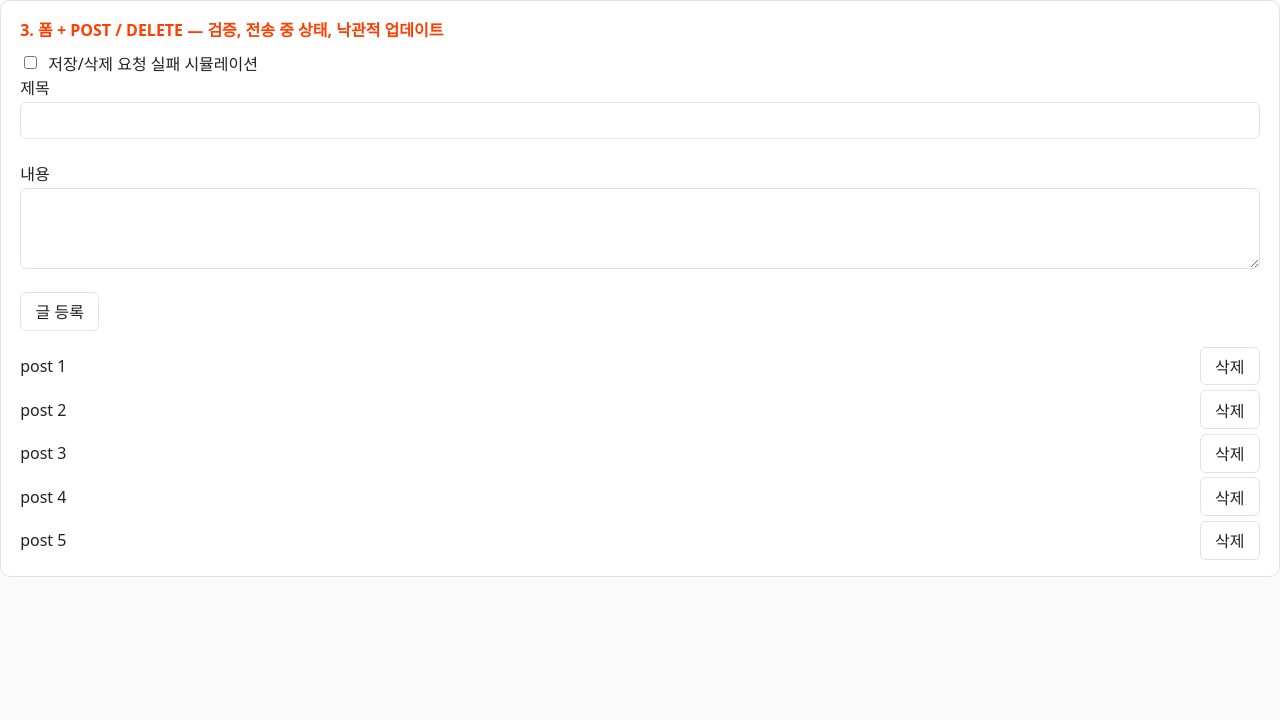
PostManager (study8) — 폼 검증, POST, 낙관적 삭제 › 잘못된 입력으로 제출하면 오류를 보여 주고 서버에 요청하지 않는다
The image size is (1280, 720).
Check: the text "post 1" is shown, box 20,355 -> 66,377
Click the button "글 등록" at (60,311), box 20,292 -> 99,331
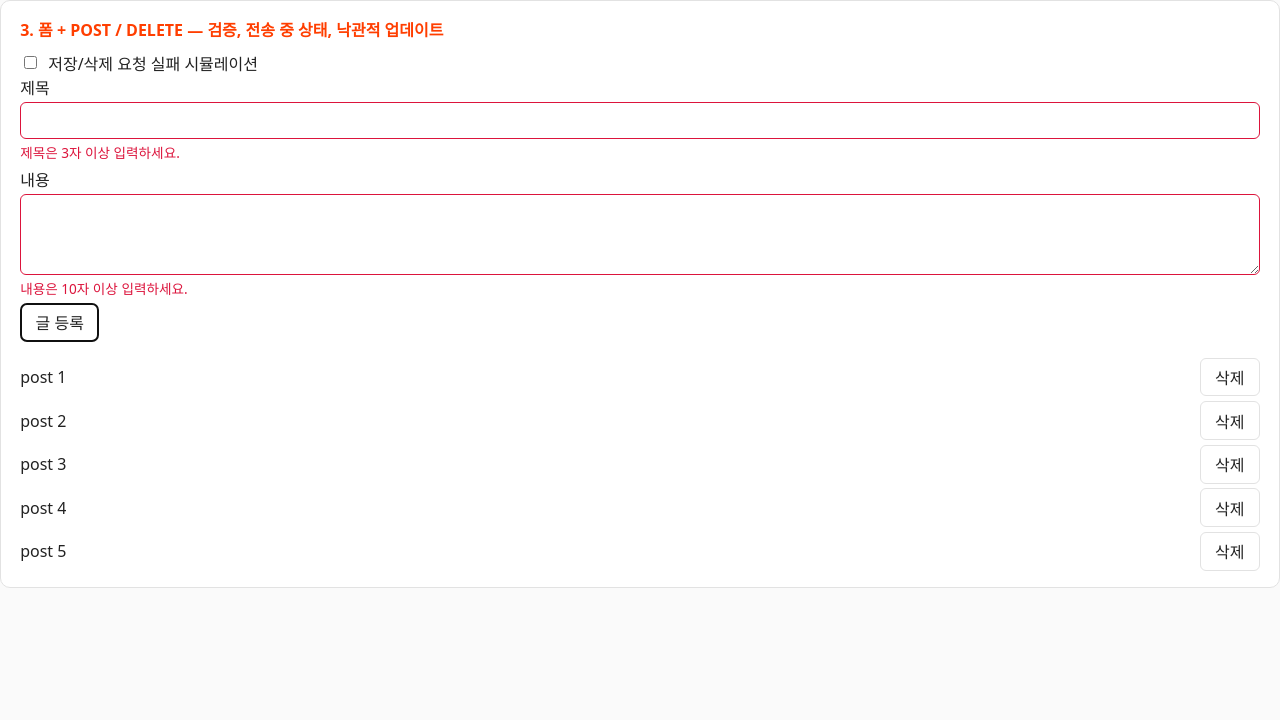
Check: the text "제목은 3자 이상 입력하세요." is shown, box 20,143 -> 180,162
Check: the text "내용은 10자 이상 입력하세요." is shown, box 20,279 -> 188,298
